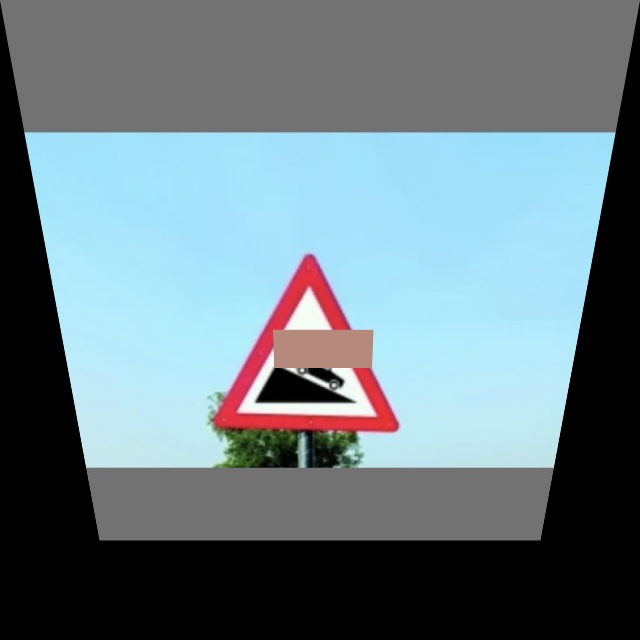Steep_Descent: (202, 254, 413, 438)
